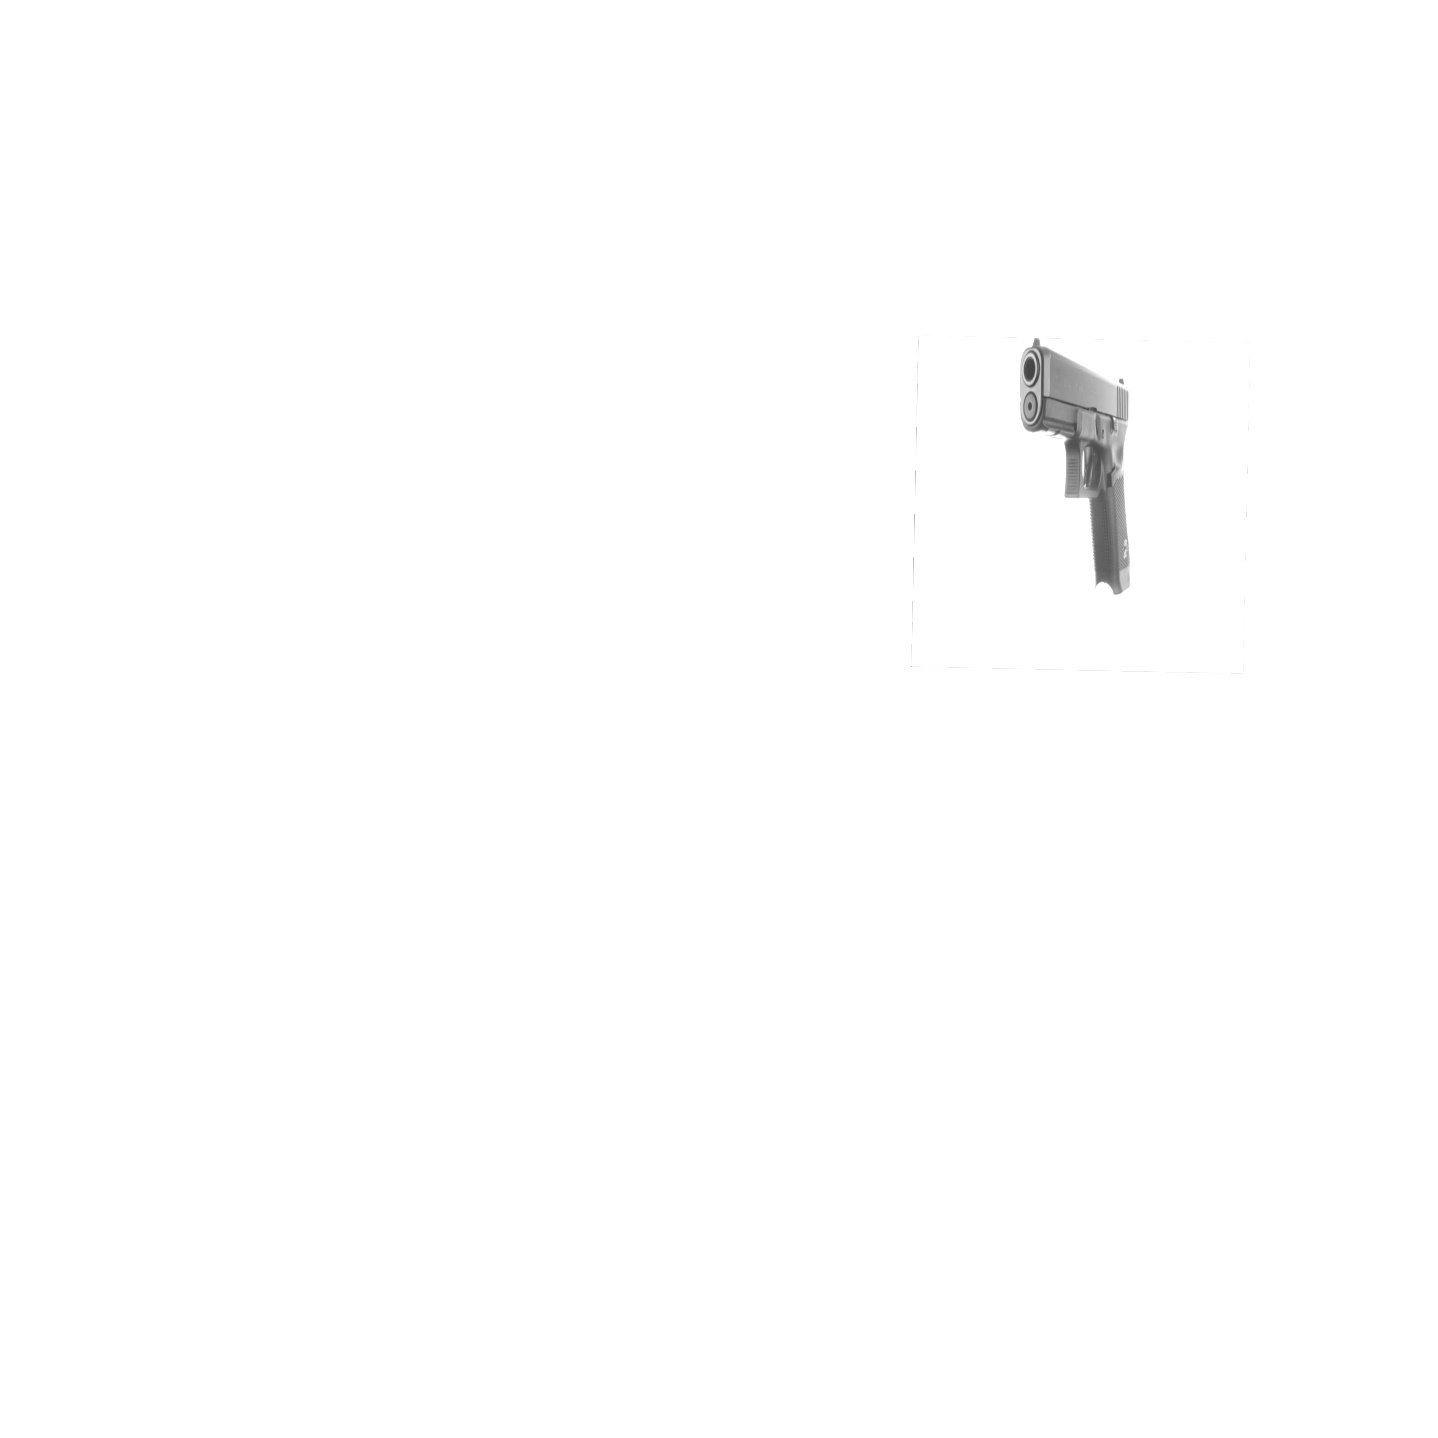gun: (1021, 336, 1135, 597)
